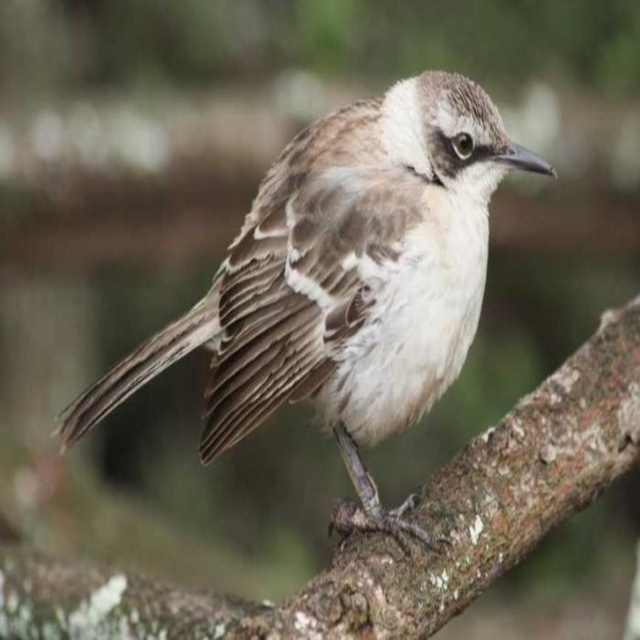Sparrow: (43, 66, 560, 564)
